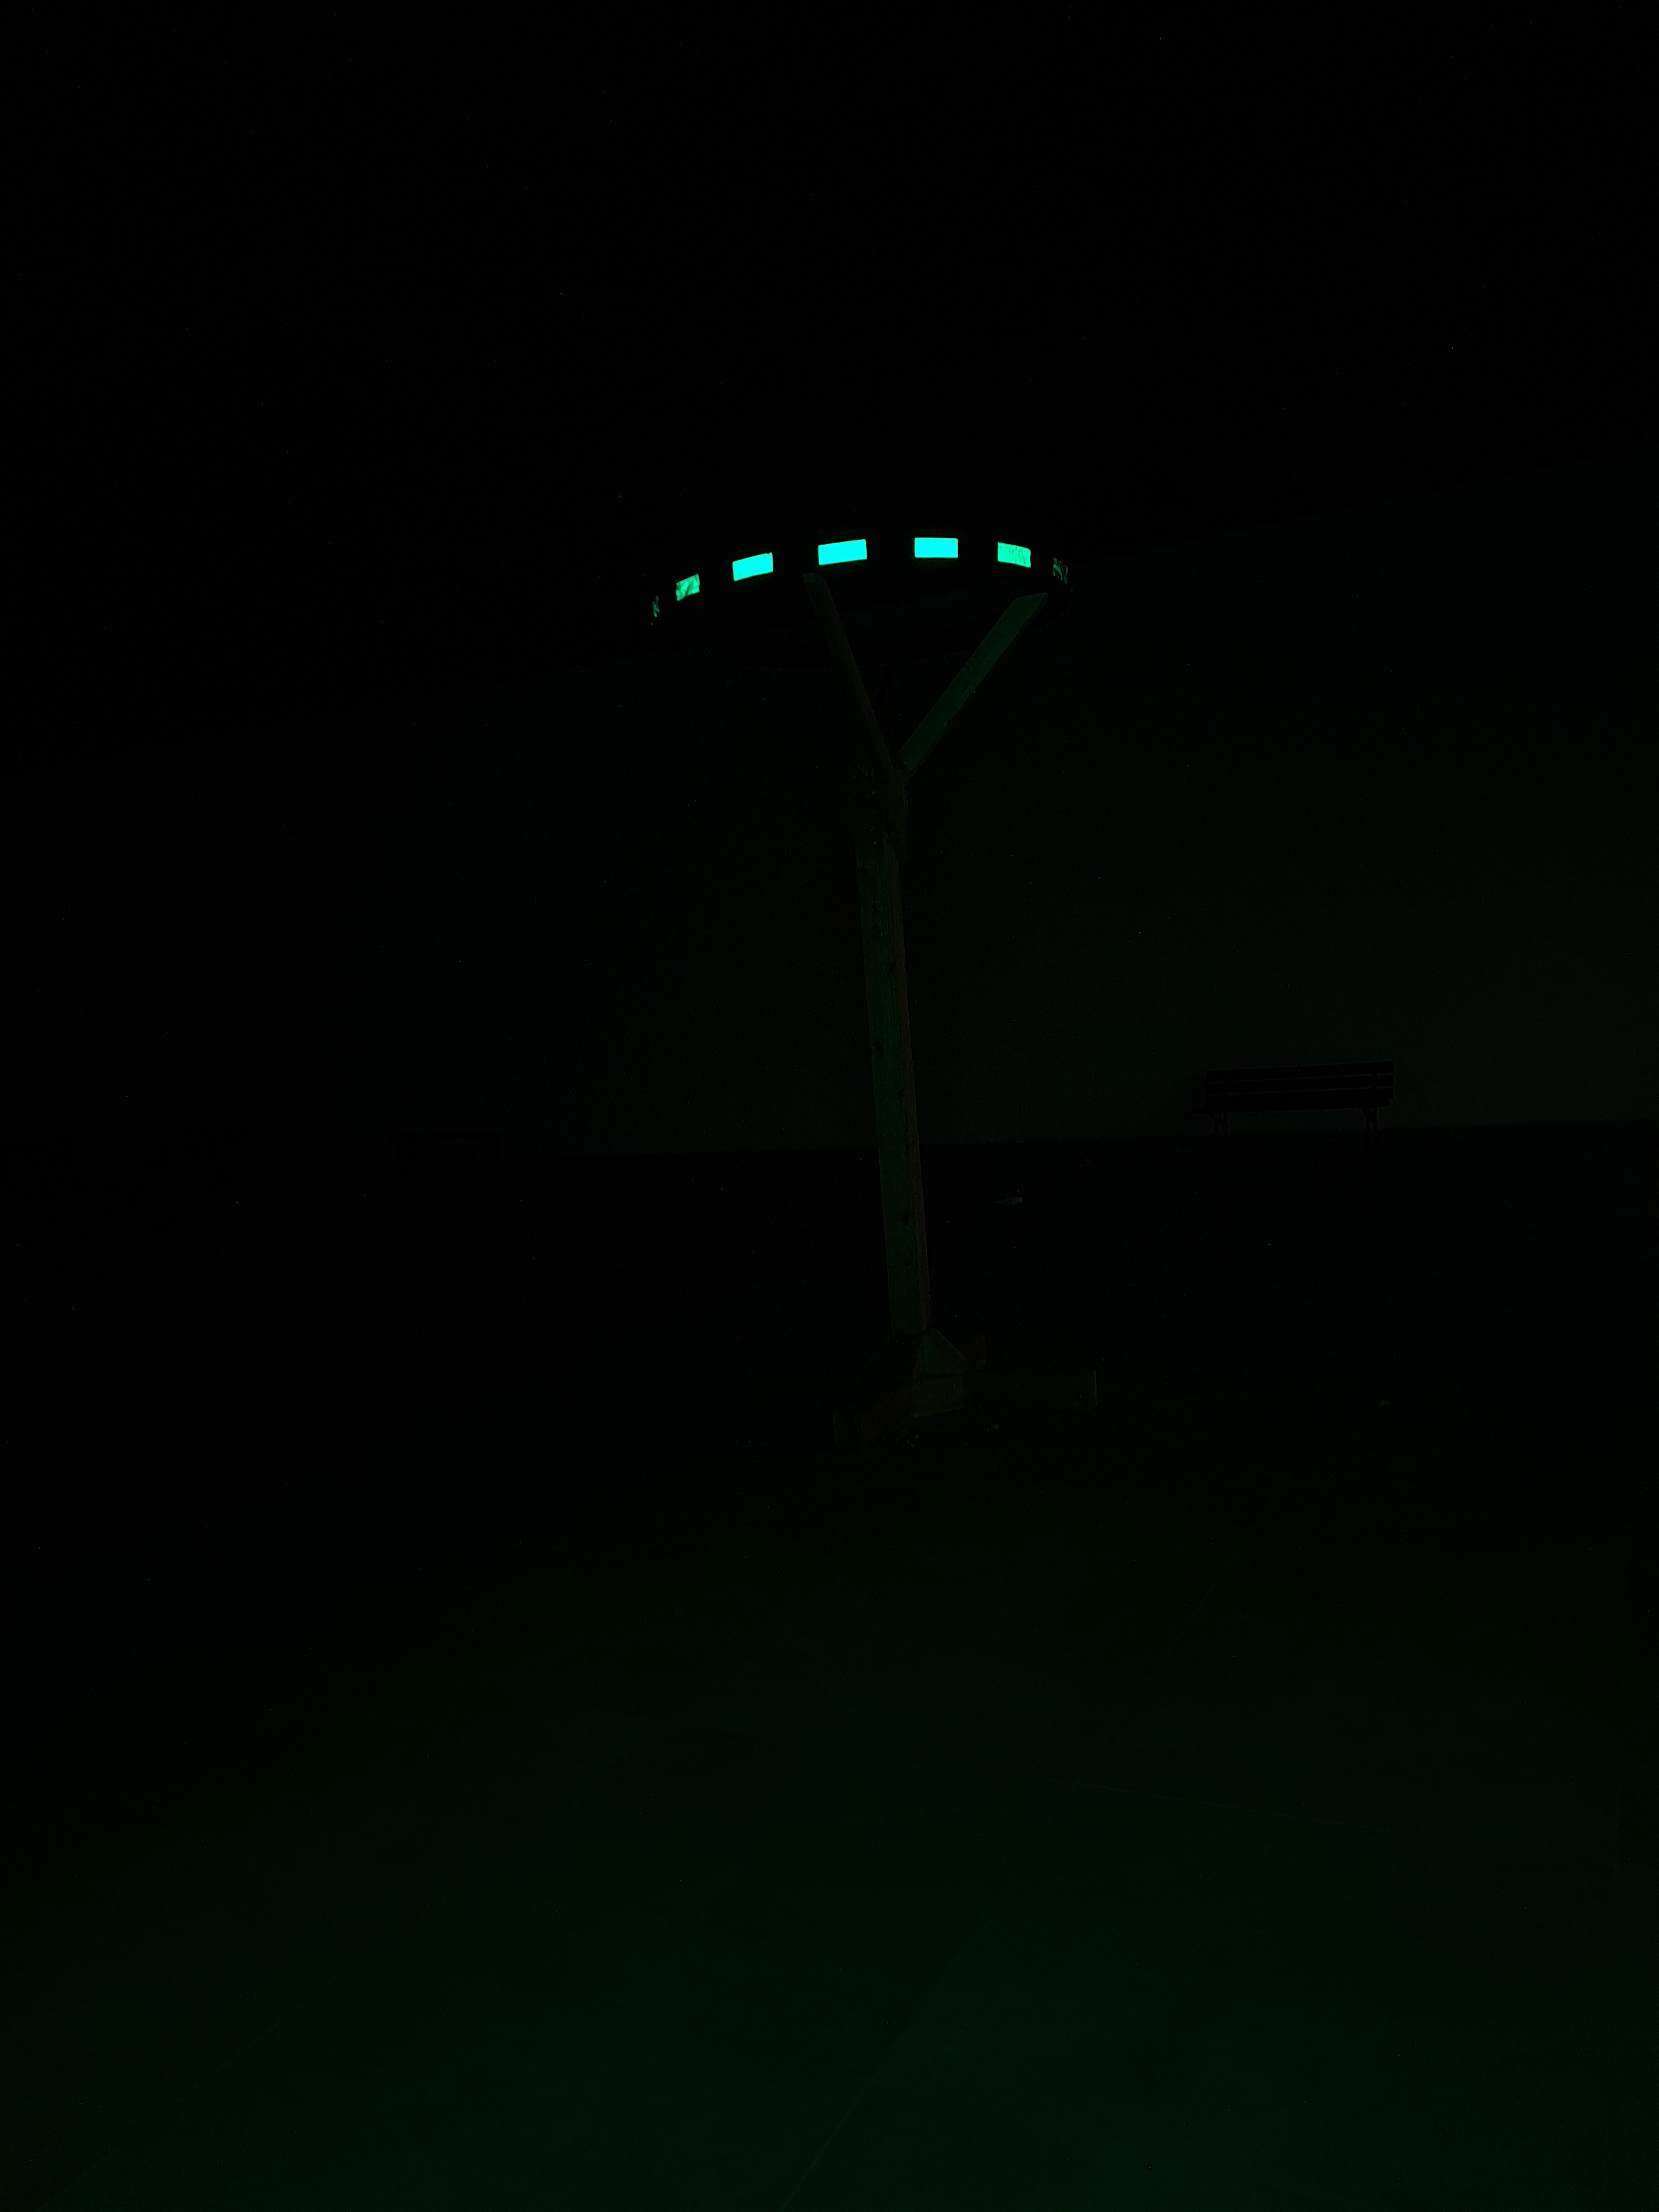hoop: (650, 524, 1072, 625)
